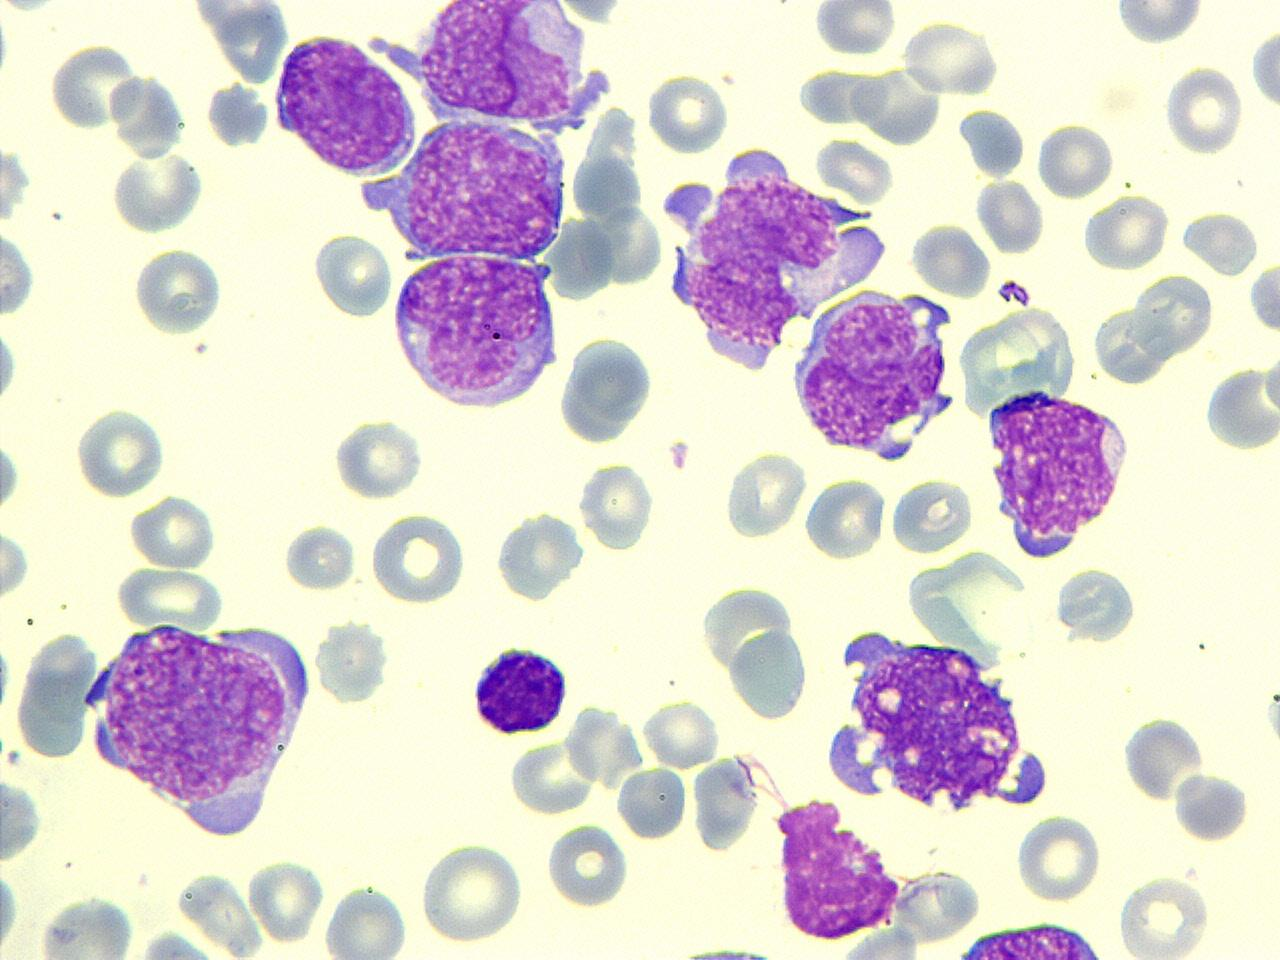Platelets: (1117, 712, 1205, 802), (578, 458, 658, 550), (107, 73, 189, 157), (1052, 566, 1140, 644), (314, 618, 390, 706), (1172, 771, 1250, 842), (957, 105, 1027, 179), (204, 81, 273, 150), (810, 2, 895, 55), (0, 772, 46, 866), (1248, 22, 1280, 118), (1246, 261, 1280, 338), (0, 143, 32, 219), (673, 940, 782, 960), (0, 868, 22, 952), (0, 439, 23, 512), (0, 328, 20, 403), (1261, 687, 1280, 749), (0, 644, 16, 716), (0, 16, 15, 80), (0, 0, 57, 16), (0, 189, 18, 224)
RBC: (823, 0, 1279, 329), (416, 837, 528, 947), (558, 332, 660, 448), (12, 628, 100, 760), (368, 509, 468, 607), (73, 404, 168, 500), (130, 246, 224, 338), (722, 447, 810, 544), (1117, 870, 1213, 959), (47, 40, 138, 132), (1014, 810, 1104, 902), (1117, 713, 1207, 803), (333, 414, 424, 503), (542, 819, 630, 912), (729, 626, 812, 723), (111, 150, 204, 235), (898, 18, 998, 97), (310, 229, 396, 320), (178, 867, 265, 956), (1163, 63, 1243, 157), (577, 457, 656, 552), (113, 564, 226, 630), (645, 70, 731, 156), (505, 738, 602, 815), (802, 474, 886, 562), (1079, 191, 1171, 270), (127, 492, 220, 571), (1132, 272, 1215, 359), (887, 473, 975, 555), (105, 75, 189, 157), (1201, 362, 1279, 452), (314, 617, 392, 707), (248, 856, 326, 946), (892, 866, 984, 942), (321, 882, 408, 959), (36, 892, 136, 959), (910, 218, 990, 297), (1037, 122, 1115, 202), (640, 696, 722, 770), (281, 518, 360, 594), (218, 3, 289, 85), (616, 763, 688, 842), (1180, 207, 1262, 276), (1172, 769, 1248, 844), (974, 176, 1044, 256), (814, 136, 894, 205), (811, 1, 896, 56), (1110, 0, 1208, 46), (1, 770, 46, 868), (0, 226, 38, 321), (1250, 19, 1280, 120), (0, 523, 31, 601)
WBC: (42, 0, 764, 352), (650, 140, 894, 377), (77, 614, 323, 834), (812, 622, 1057, 819), (788, 284, 962, 466), (357, 121, 571, 258), (388, 248, 562, 412), (983, 384, 1135, 562), (410, 0, 598, 129), (270, 27, 418, 177), (771, 790, 911, 944), (11, 627, 103, 759), (558, 331, 660, 449), (469, 642, 573, 738), (492, 506, 586, 604), (938, 918, 1118, 958), (1053, 563, 1137, 646), (957, 103, 1026, 179)
